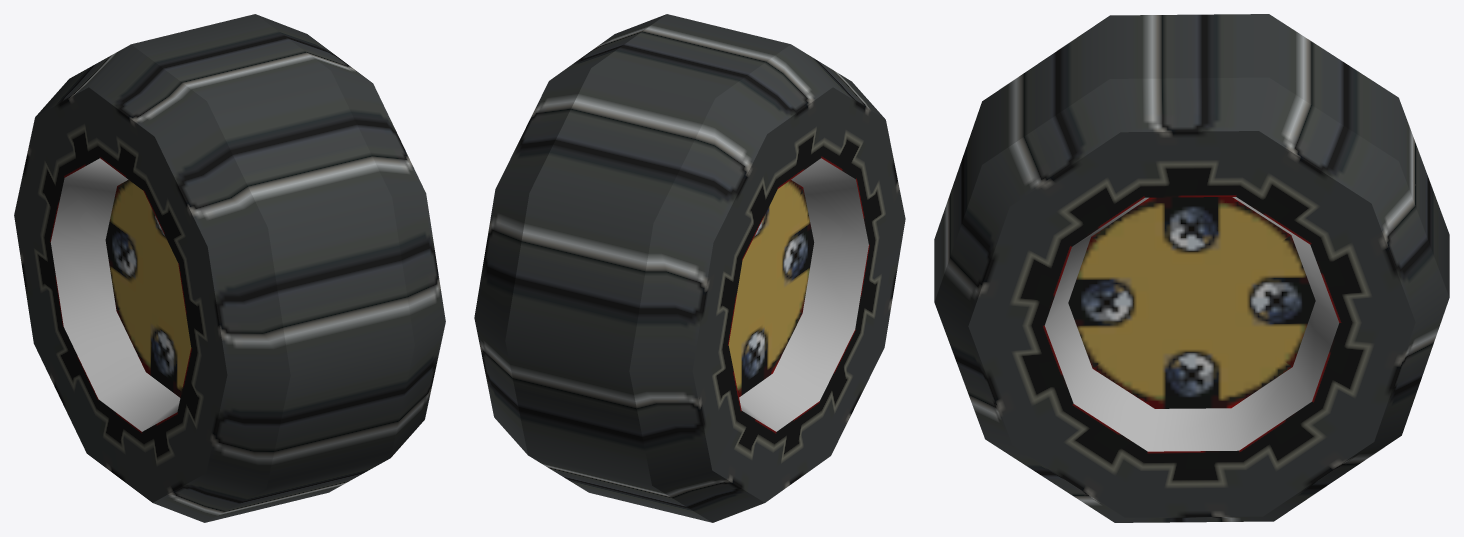
The picture shows the model from 3 angles, left to right: view 1: azimuth 30°, elevation 25°; view 2: azimuth 150°, elevation 25°; view 3: azimuth 270°, elevation 25°; orthographic projection. The views are drawn at different scales.
Parts seen in each view (by area): view 1: Joint_0_Object_1, Joint_0_Object_0; view 2: Joint_0_Object_1, Joint_0_Object_0; view 3: Joint_0_Object_1, Joint_0_Object_0.
Part boxes in pixels (x1=…): Joint_0_Object_1: x1=14, y1=14, x2=445, y2=522; Joint_0_Object_0: x1=50, y1=158, x2=180, y2=431; Joint_0_Object_1: x1=474, y1=14, x2=905, y2=522; Joint_0_Object_0: x1=739, y1=158, x2=868, y2=431; Joint_0_Object_1: x1=934, y1=14, x2=1449, y2=522; Joint_0_Object_0: x1=1044, y1=197, x2=1338, y2=451.
Size of the model in its own units: 36.99 by 68.73 by 72.03.
Materials: 2 (1 with a texture image).
